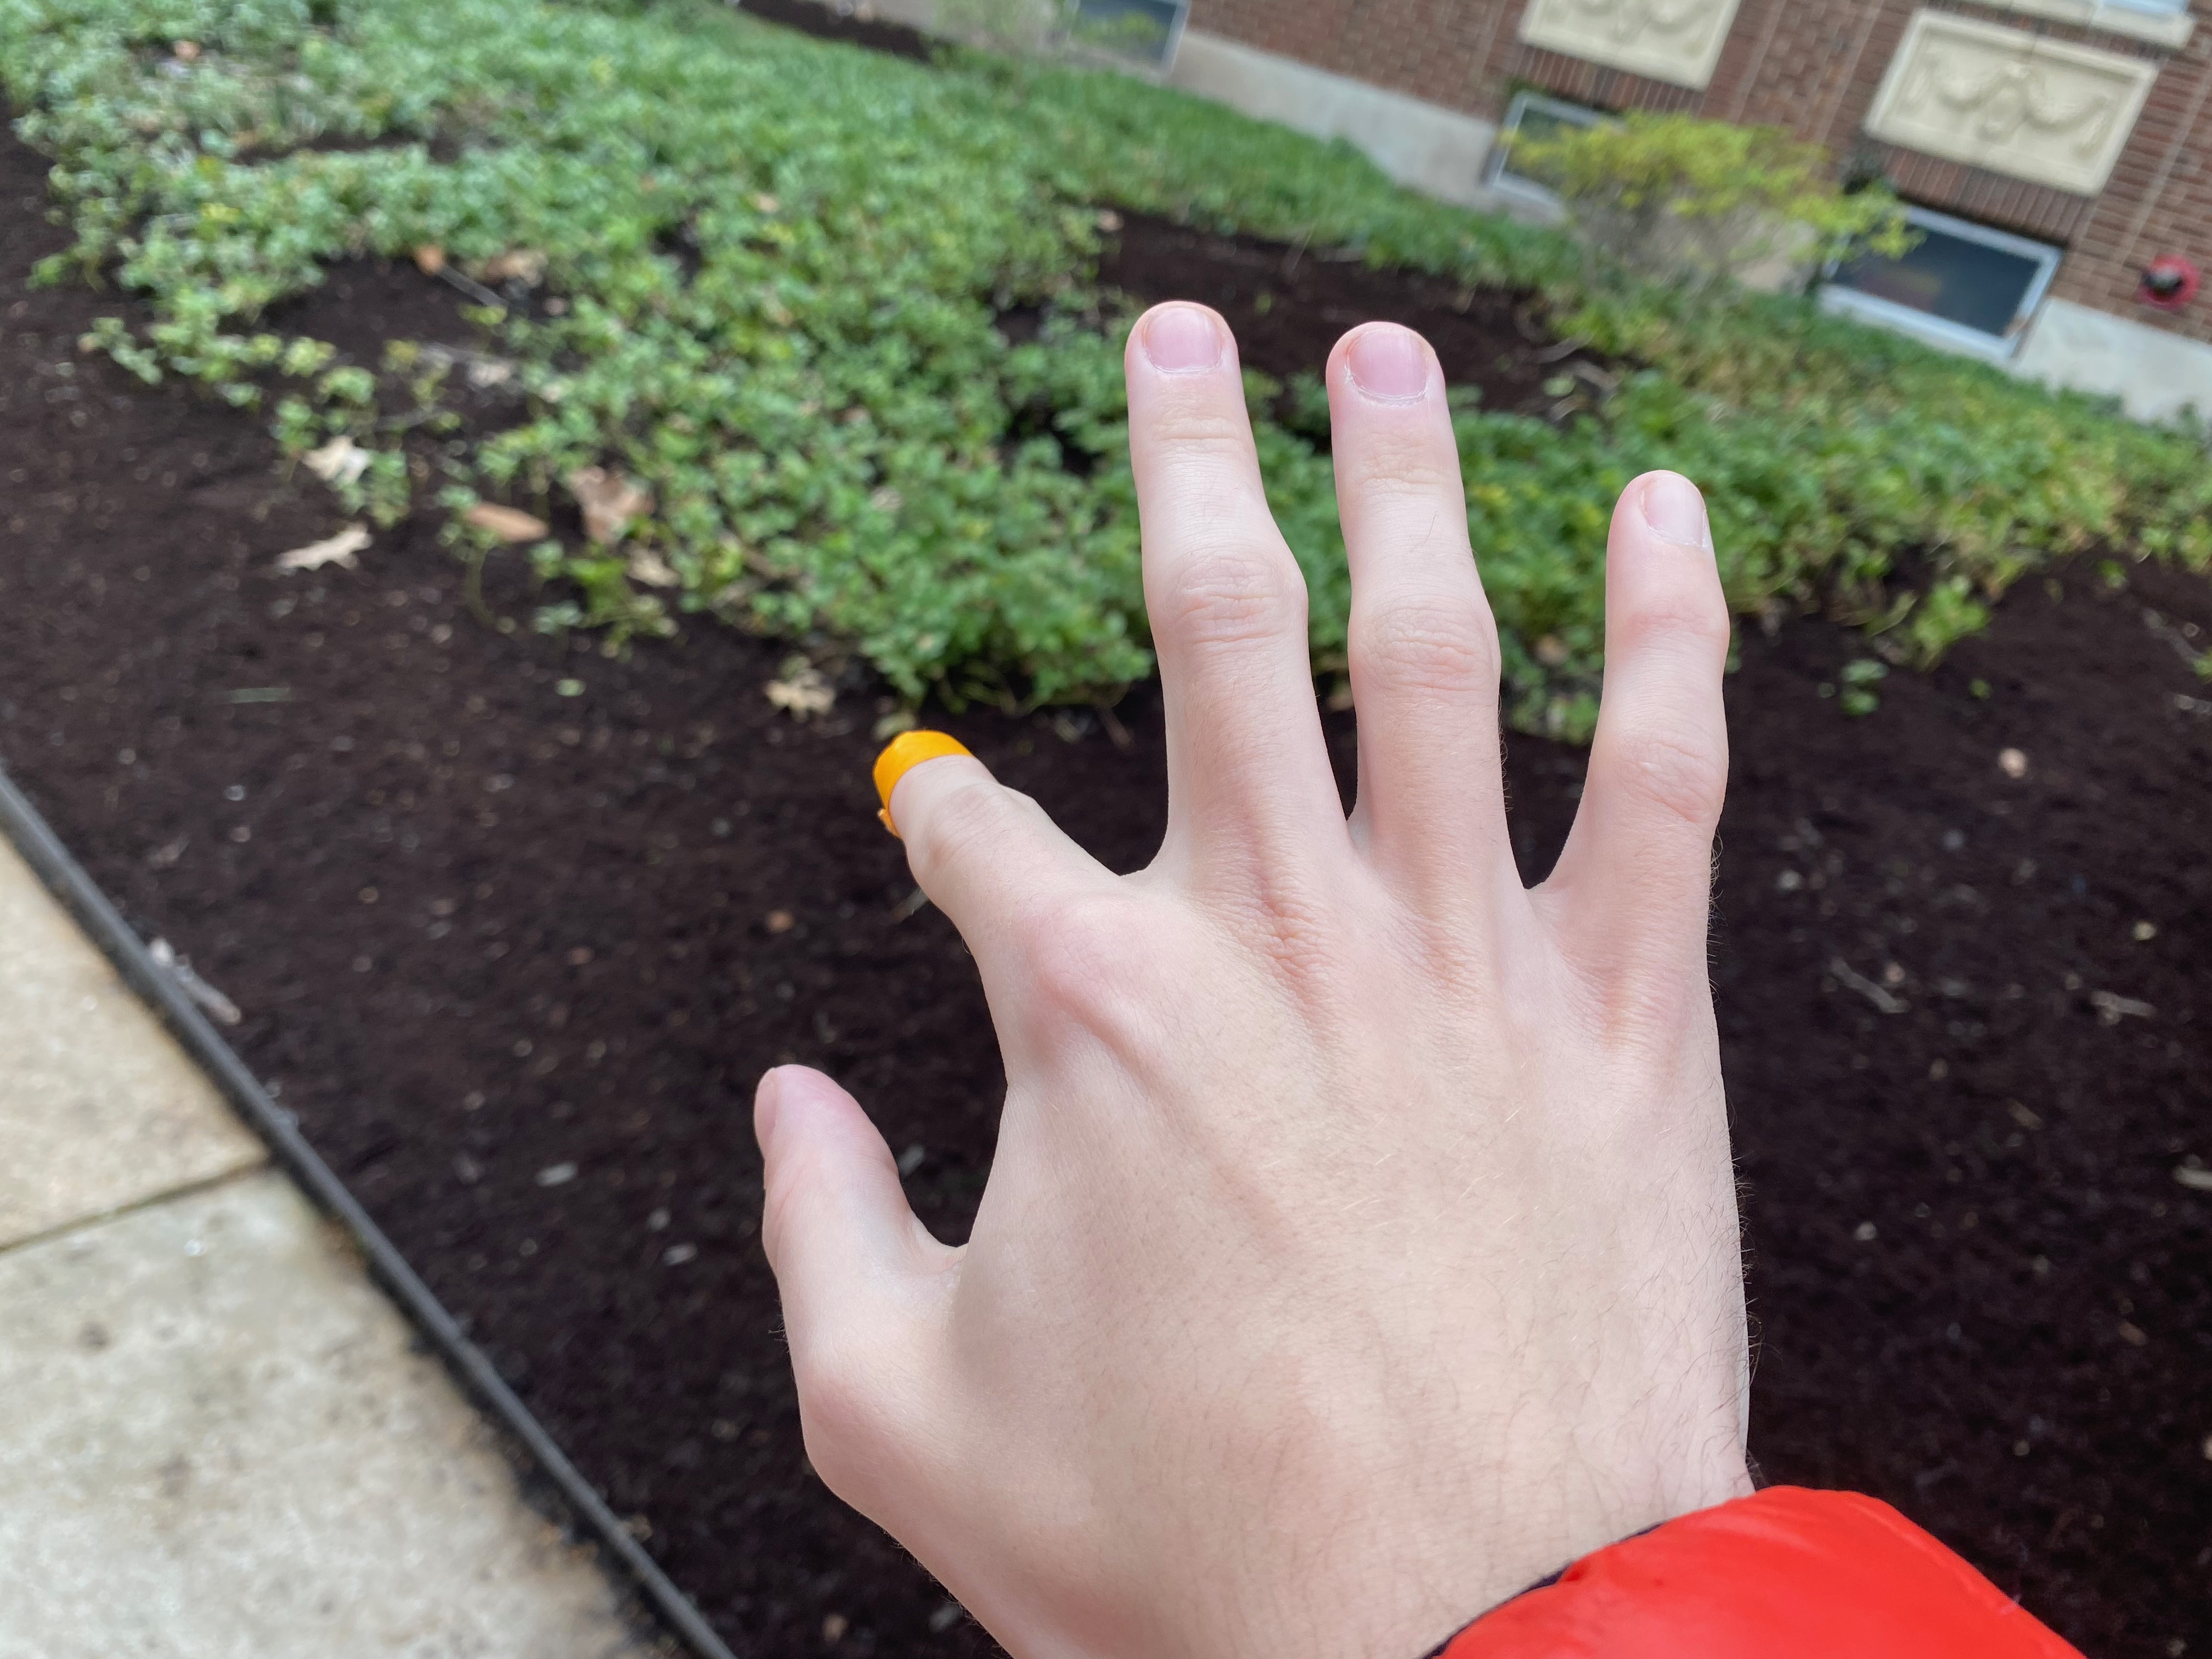fingertip: (843, 725, 1005, 836)
